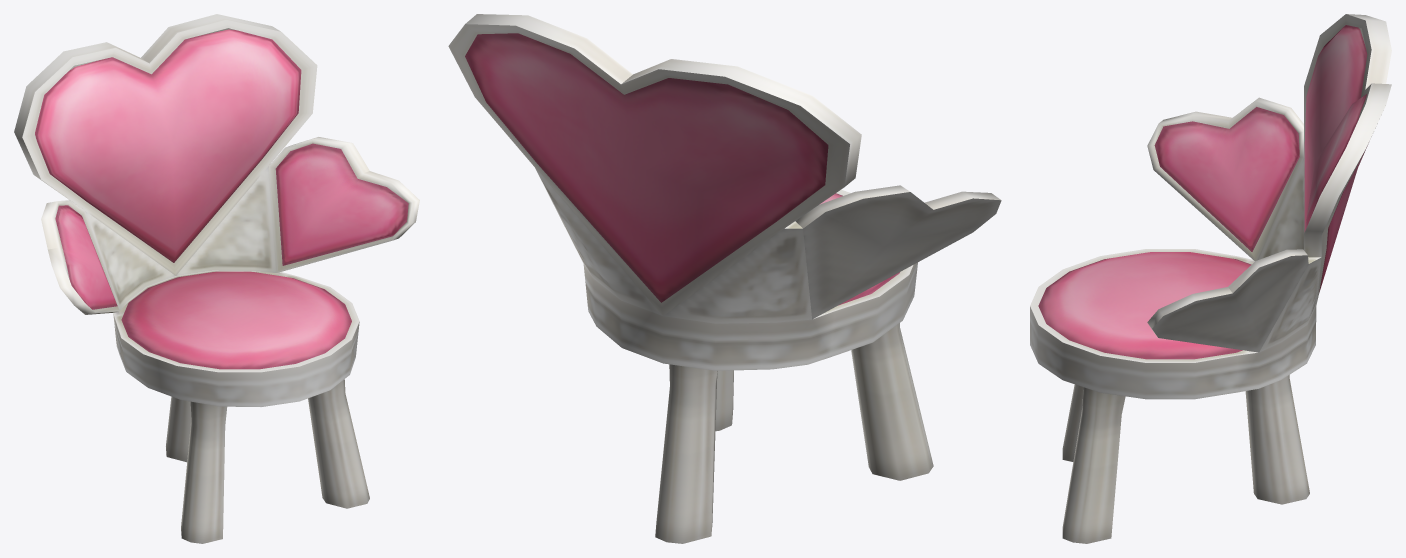
File: GirlyChair_HD.fbx
The picture shows the model from 3 angles, left to right: view 1: azimuth 30°, elevation 25°; view 2: azimuth 150°, elevation 25°; view 3: azimuth 270°, elevation 25°; orthographic projection. The views are drawn at different scales.
Visible parts, largest first — view 1: GirlyChair; view 2: GirlyChair; view 3: GirlyChair.
Boxes of the visible parts, bbox=[...] form: GirlyChair: bbox=[14, 14, 419, 543]; GirlyChair: bbox=[448, 14, 1001, 543]; GirlyChair: bbox=[1030, 14, 1391, 543].
Size of the model in its own units: 0.8655 by 0.8869 by 0.6745.
